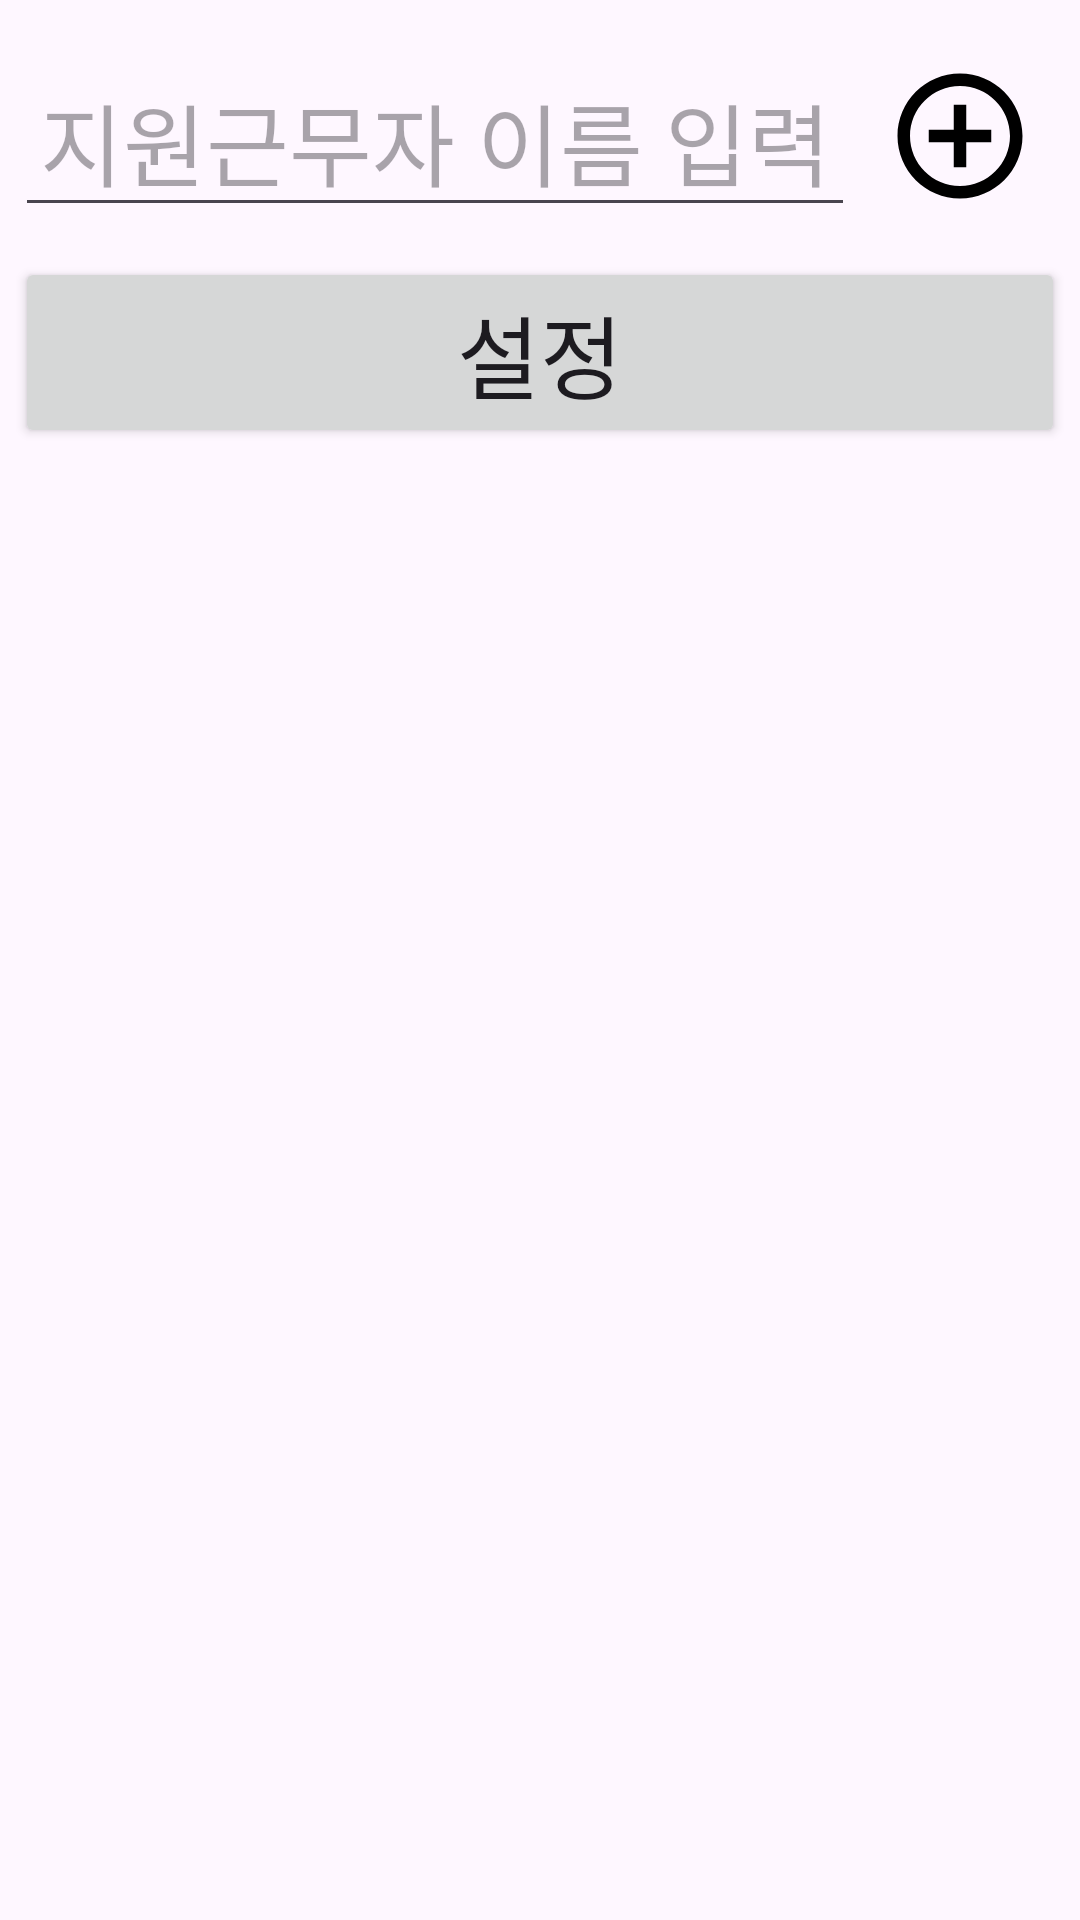

Named icons in this screenshot (1080w x 1920h) and their bounding boxes, (x1, y1, x2, y2):
add: (897, 73, 1023, 199)
